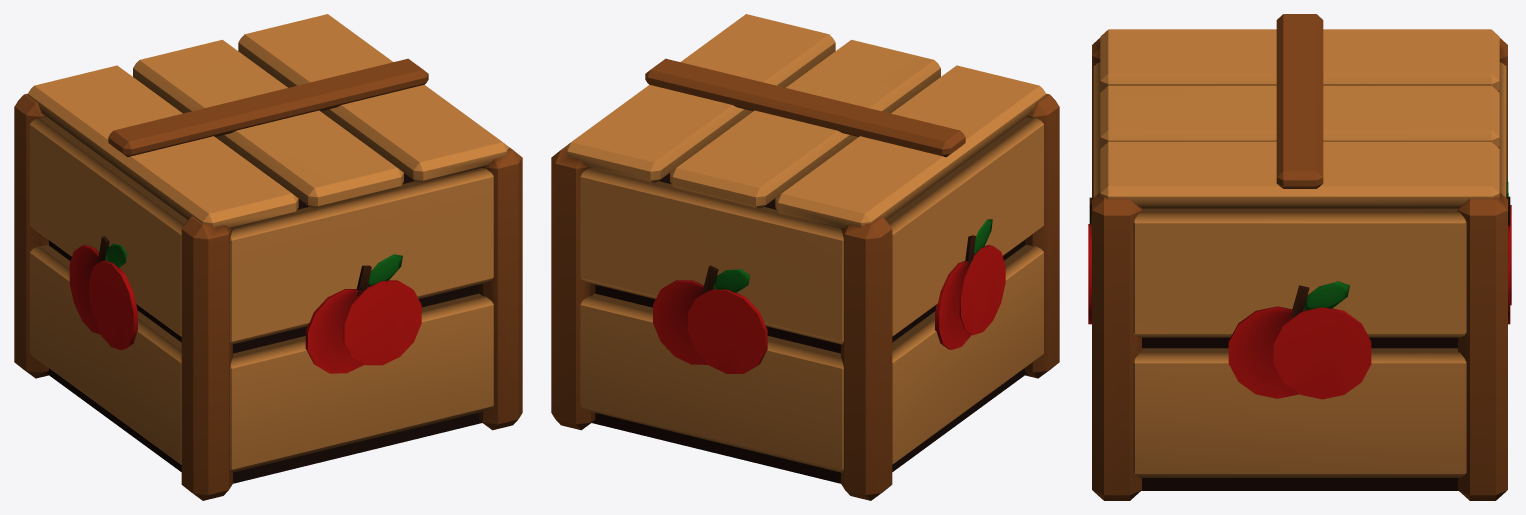
Rendered from Cargo_Crate.fbx.
3 renders of one model, left to right at view 1: azimuth 30°, elevation 25°; view 2: azimuth 150°, elevation 25°; view 3: azimuth 270°, elevation 25°, orthographic. The views are drawn at different scales.
Visible parts, largest first — view 1: Cargo_Crate; view 2: Cargo_Crate; view 3: Cargo_Crate.
Part boxes in pixels (x1=…): Cargo_Crate: x1=14, y1=14, x2=522, y2=500; Cargo_Crate: x1=551, y1=14, x2=1059, y2=500; Cargo_Crate: x1=1088, y1=14, x2=1511, y2=500.
Size of the model in its own units: 0.636 by 0.54 by 0.636.
